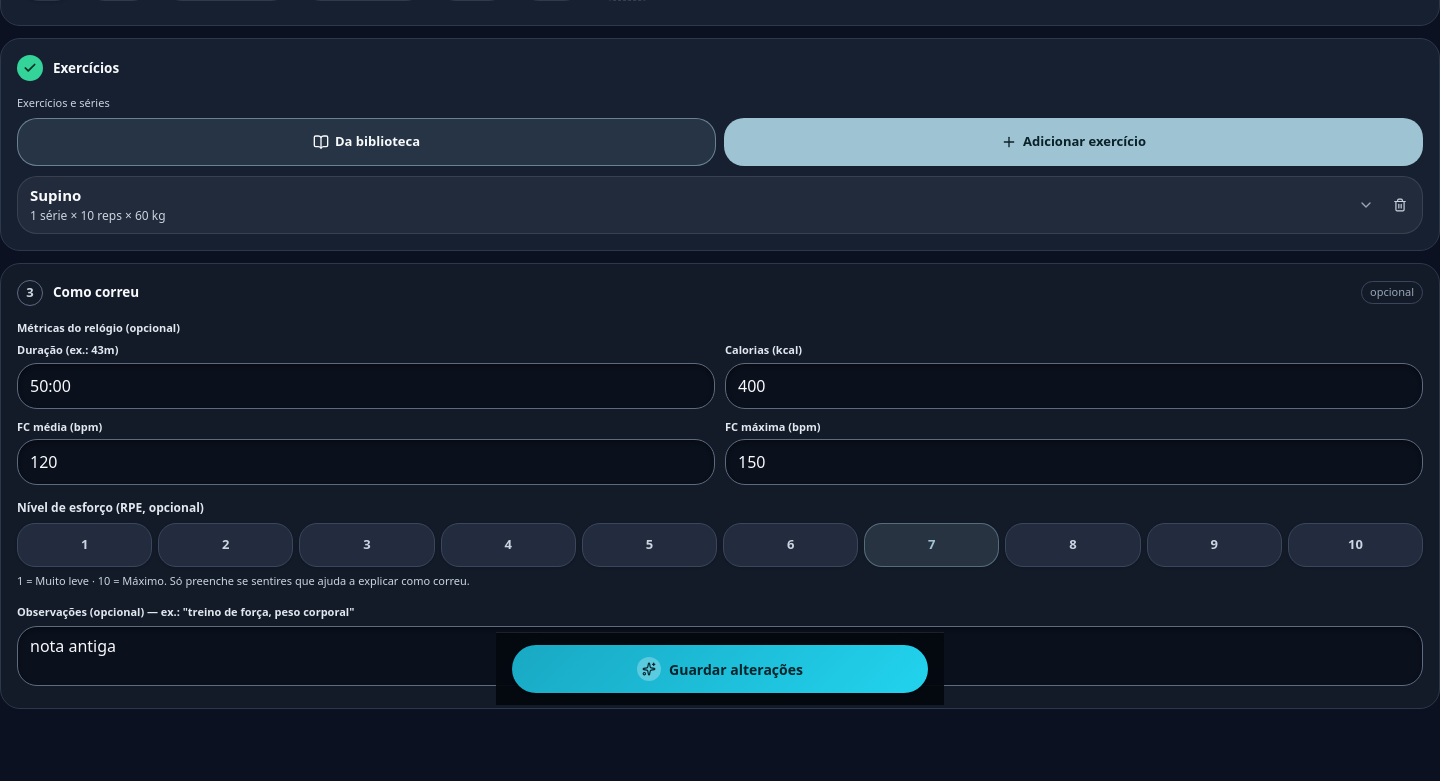
Test case: GymRegistration — guarda de navegação com formulário sujo › trocar de separador com o formulário sujo mostra o aviso em vez de navegar logo
(page scrolled)
What coordinates should you click on to do the following:
click the button "9"
I would click on:
 (1214, 545)
Its box is x1=1147 y1=523 x2=1282 y2=567.
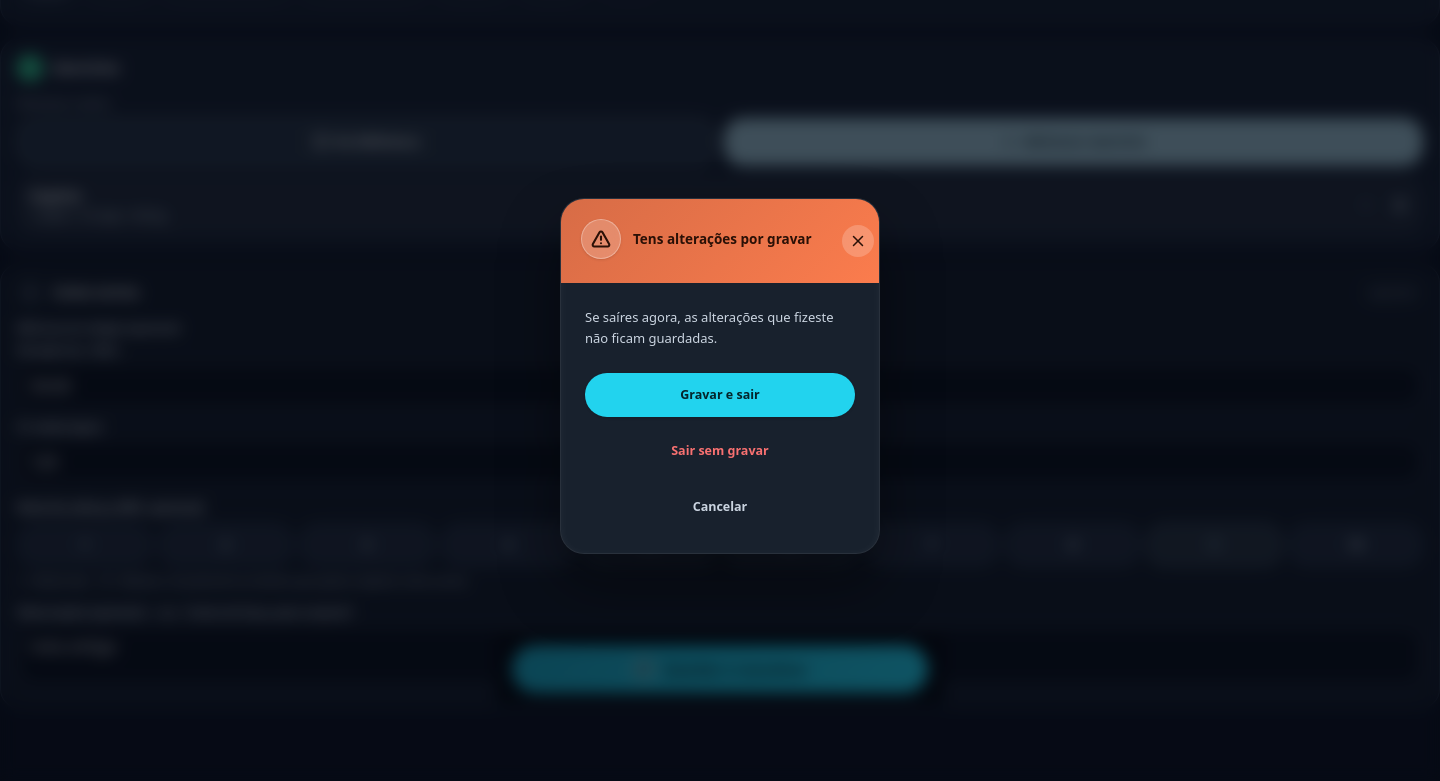
expect the heading "Tens alterações por gravar" is shown: met, box x1=633 y1=232 x2=812 y2=247
